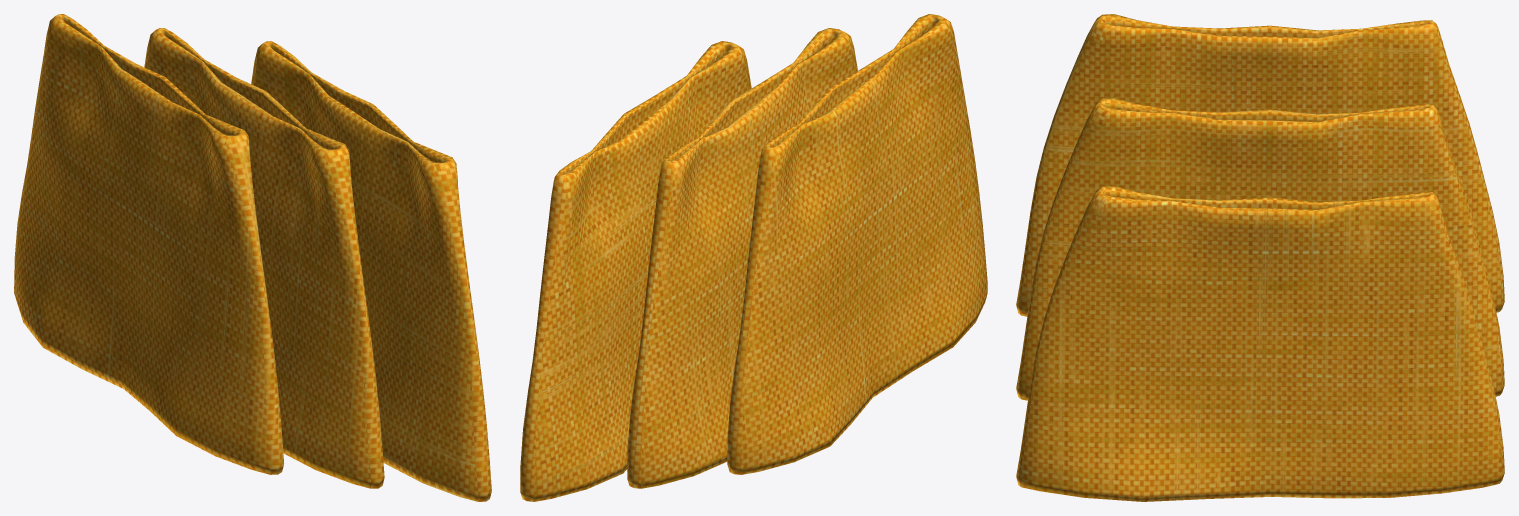
The model's file is yifu12duanku_01.fbx.
3 renders of one model, left to right at view 1: azimuth 30°, elevation 25°; view 2: azimuth 150°, elevation 25°; view 3: azimuth 270°, elevation 25°, orthographic. The views are drawn at different scales.
Visible parts, largest first — view 1: yifu12duanku_01; view 2: yifu12duanku_01; view 3: yifu12duanku_01.
Boxes of the visible parts, box(x1,y1,x2,y2) form: yifu12duanku_01: box(14, 14, 491, 501); yifu12duanku_01: box(520, 14, 987, 501); yifu12duanku_01: box(1016, 14, 1504, 501).
Size of the model in its own units: 32.67 by 42.68 by 50.39.
